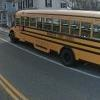Bus: (4, 3, 100, 68)
